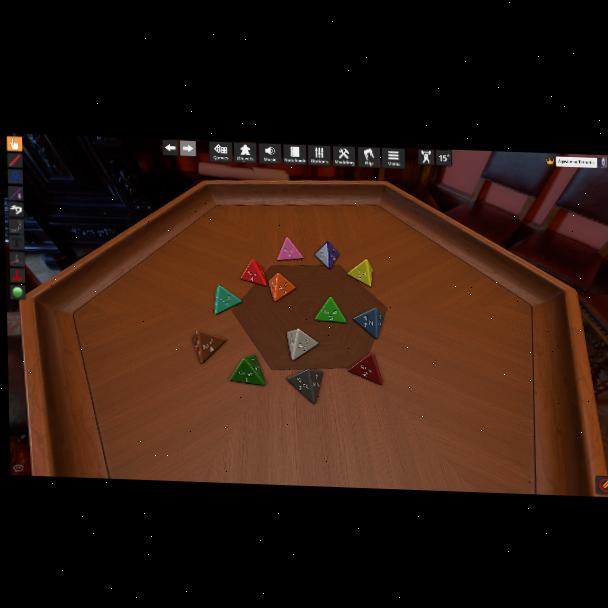d4: (286, 368, 324, 404), (348, 353, 382, 386), (229, 355, 265, 386), (352, 307, 384, 340), (286, 327, 317, 360), (193, 330, 222, 364), (315, 296, 346, 324), (267, 273, 295, 303), (214, 285, 241, 316), (347, 259, 373, 288), (241, 258, 267, 286), (314, 241, 339, 270), (277, 238, 304, 264)
